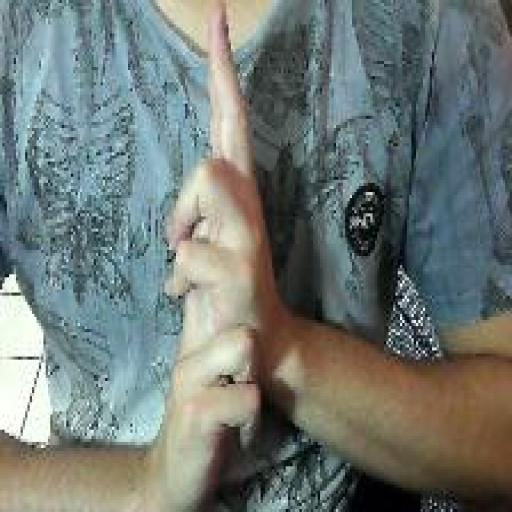Hitsuji -ram-: (163, 3, 271, 509)
